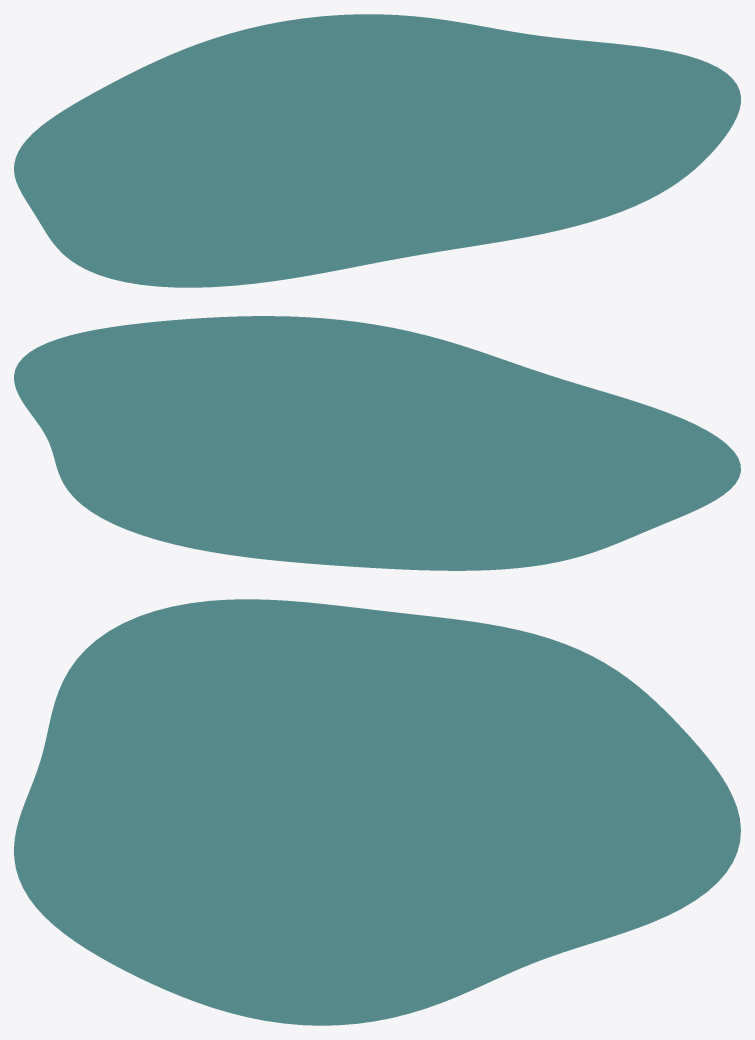
File: SM_Lake.fbx
The picture shows the model from 3 angles, top to bottom: view 1: azimuth 30°, elevation 25°; view 2: azimuth 150°, elevation 25°; view 3: azimuth 270°, elevation 25°; orthographic projection. The views are drawn at different scales.
Visible parts, largest first — view 1: SM_Lake; view 2: SM_Lake; view 3: SM_Lake.
Boxes of the visible parts, x1=… form: SM_Lake: x1=14, y1=14, x2=740, y2=287; SM_Lake: x1=14, y1=316, x2=740, y2=570; SM_Lake: x1=14, y1=599, x2=740, y2=1025.
Bounding box in the file's own units: 3552 × 2559 × 0.
